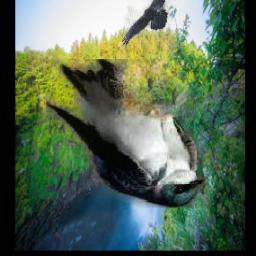Crow: (122, 0, 174, 46)
Swallow: (45, 59, 207, 208)
